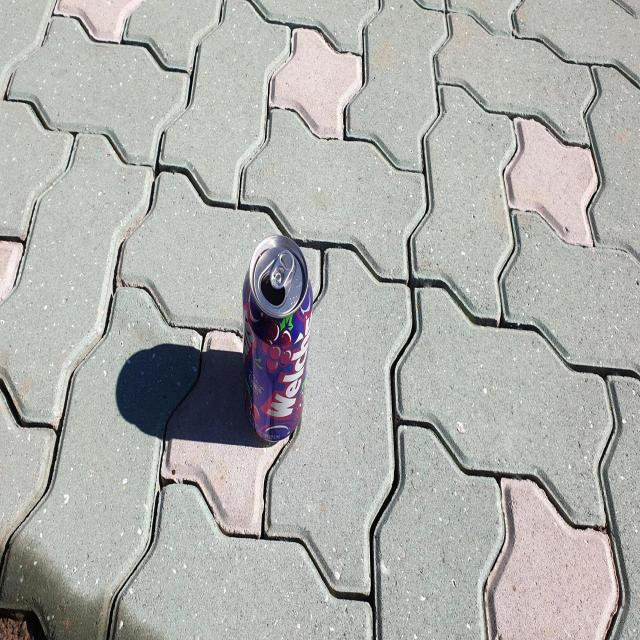can: (242, 234, 313, 442)
